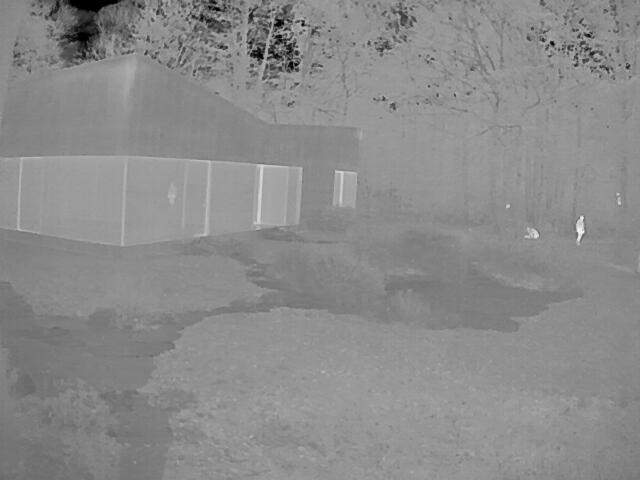person: (575, 214, 584, 245), (165, 182, 175, 205)
